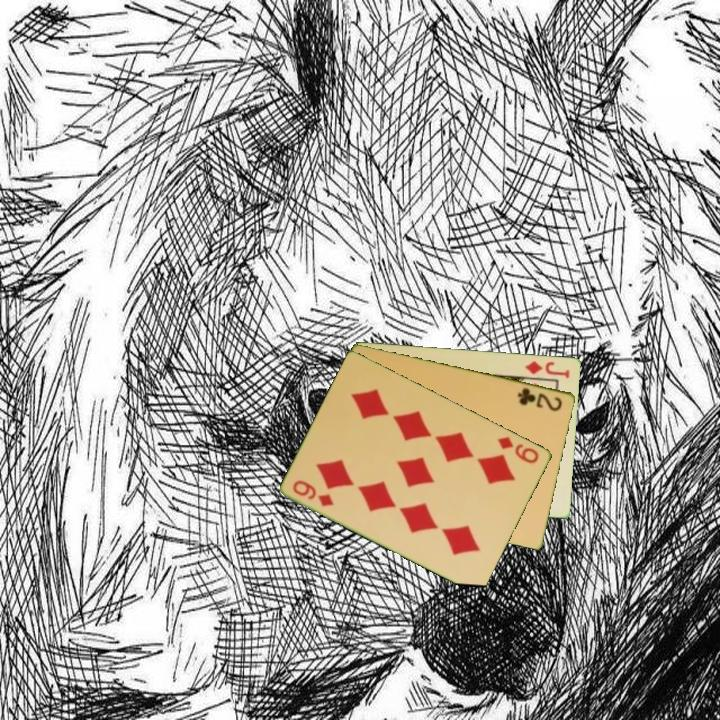2c: (514, 384, 565, 414)
9d: (289, 476, 337, 509), (495, 433, 542, 466)
Jd: (522, 357, 573, 380)
